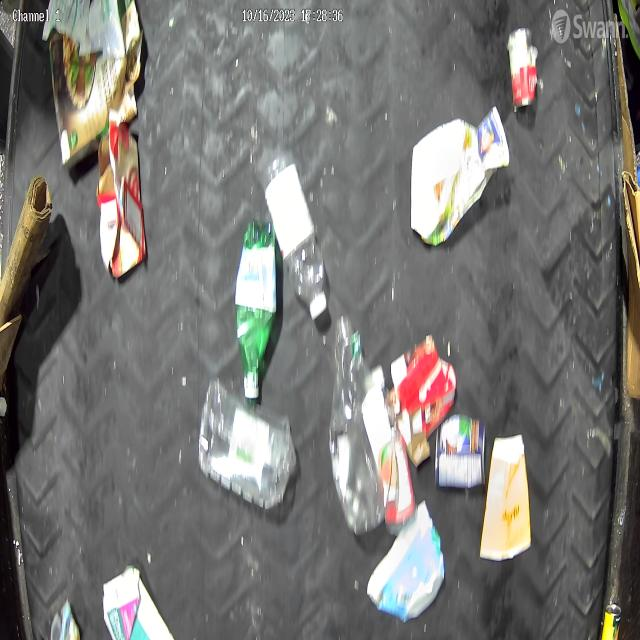can: (431, 411, 491, 501), (507, 24, 540, 115)
plastic_bottle: (259, 150, 329, 321), (238, 221, 280, 410)
